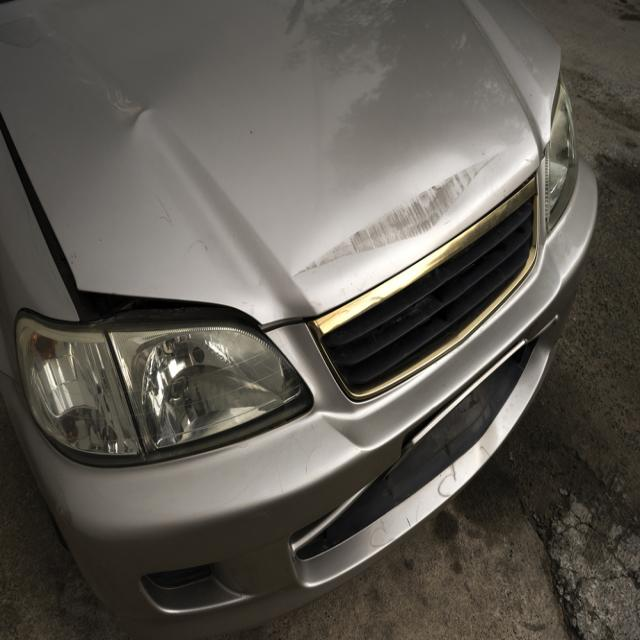dent: (296, 148, 504, 275)
